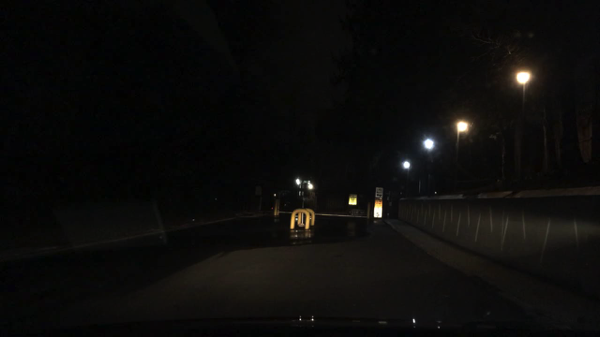traffic sign: (347, 193, 357, 206), (374, 186, 383, 199), (254, 187, 261, 195), (310, 191, 315, 201)
